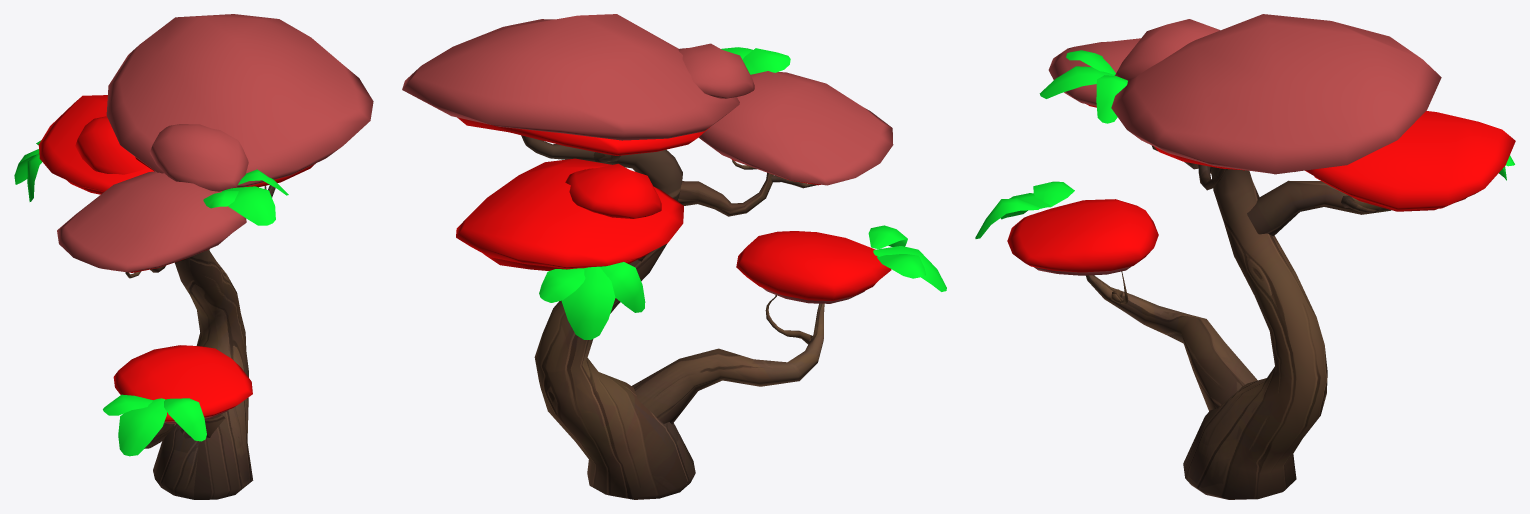
Rendered from SM_Tree_big_03.fbx.
3 views of the same model, side by side, from view 1: azimuth 30°, elevation 25°; view 2: azimuth 150°, elevation 25°; view 3: azimuth 270°, elevation 25° (orthographic). The views are drawn at different scales.
Visible parts, largest first — view 1: SM_Tree_big_03.005; view 2: SM_Tree_big_03.005; view 3: SM_Tree_big_03.005.
Part boxes in pixels (box(x1,y1,x2,y2)): SM_Tree_big_03.005: box(14, 14, 373, 499); SM_Tree_big_03.005: box(402, 14, 946, 499); SM_Tree_big_03.005: box(975, 14, 1515, 499).
Size of the model in its own units: 7.87 by 9.07 by 9.23.
